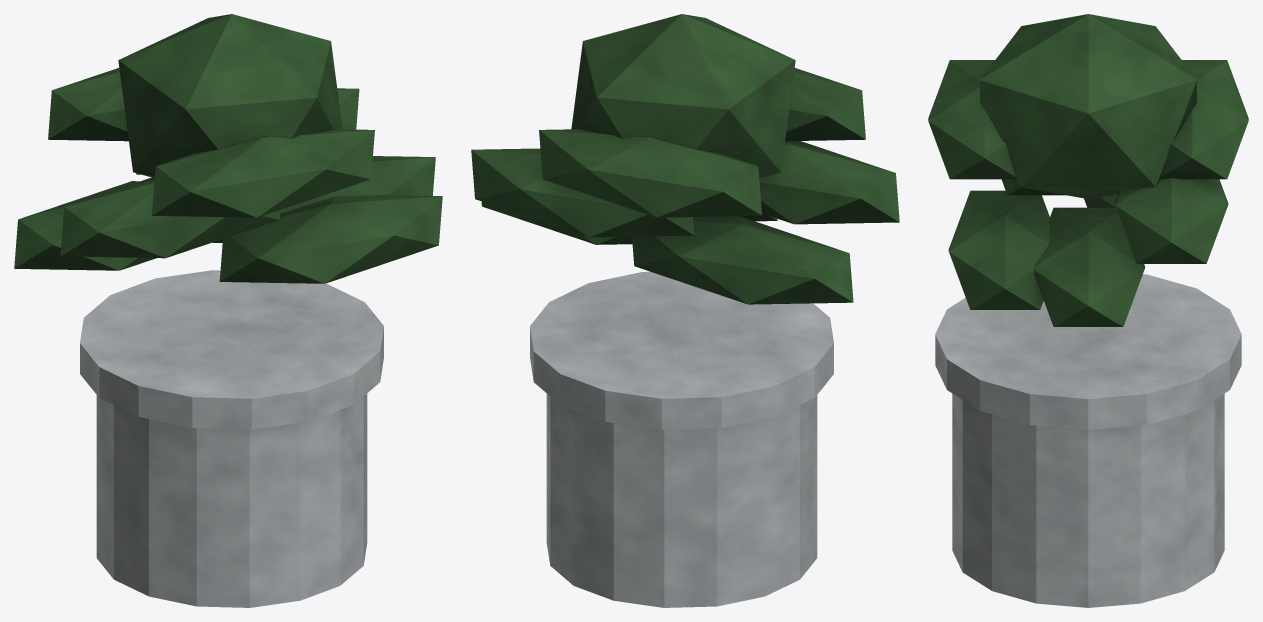
The model's file is base_plant.glb.
3 renders of one model, left to right at view 1: azimuth 30°, elevation 25°; view 2: azimuth 150°, elevation 25°; view 3: azimuth 270°, elevation 25°, orthographic.
Parts seen in each view (by area): view 1: base_plant.003; view 2: base_plant.003; view 3: base_plant.003.
Part boxes in pixels (<box>): base_plant.003: <box>14,14,442,607</box>; base_plant.003: <box>471,14,899,607</box>; base_plant.003: <box>928,14,1248,607</box>.
Size of the model in its own units: 1.08 by 1.39 by 0.7529.
Materials: 2 (2 with a texture image).
